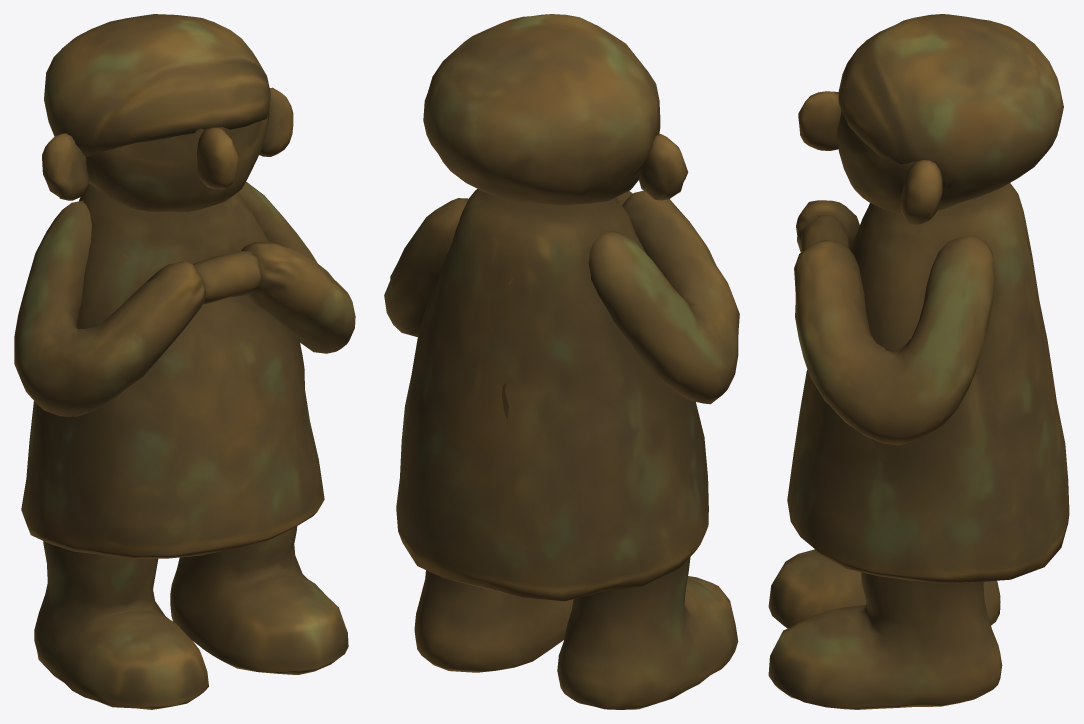
Rendered from idolo_a.glb.
3 views of the same model, side by side, from view 1: azimuth 30°, elevation 25°; view 2: azimuth 150°, elevation 25°; view 3: azimuth 270°, elevation 25° (orthographic). The views are drawn at different scales.
Visible parts, largest first — view 1: idolo_a; view 2: idolo_a; view 3: idolo_a.
Part boxes in pixels (box(x1,y1,x2,y2)): idolo_a: box(14, 14, 355, 709); idolo_a: box(384, 14, 739, 709); idolo_a: box(768, 14, 1069, 709).
Bounding box in the file's own units: 0.1796 × 0.3374 × 0.1472.
1 material, 1 textured.
